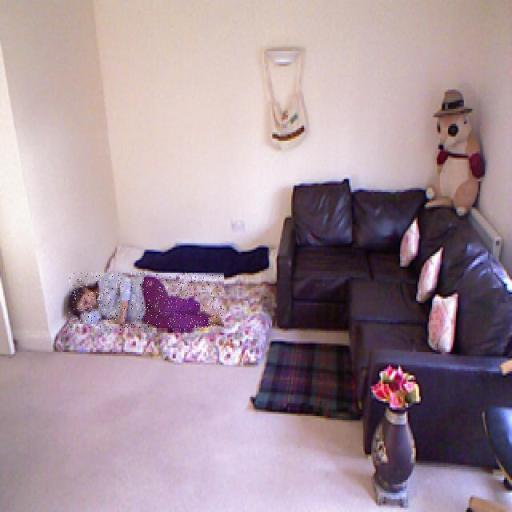Fall: (69, 274, 224, 331)
